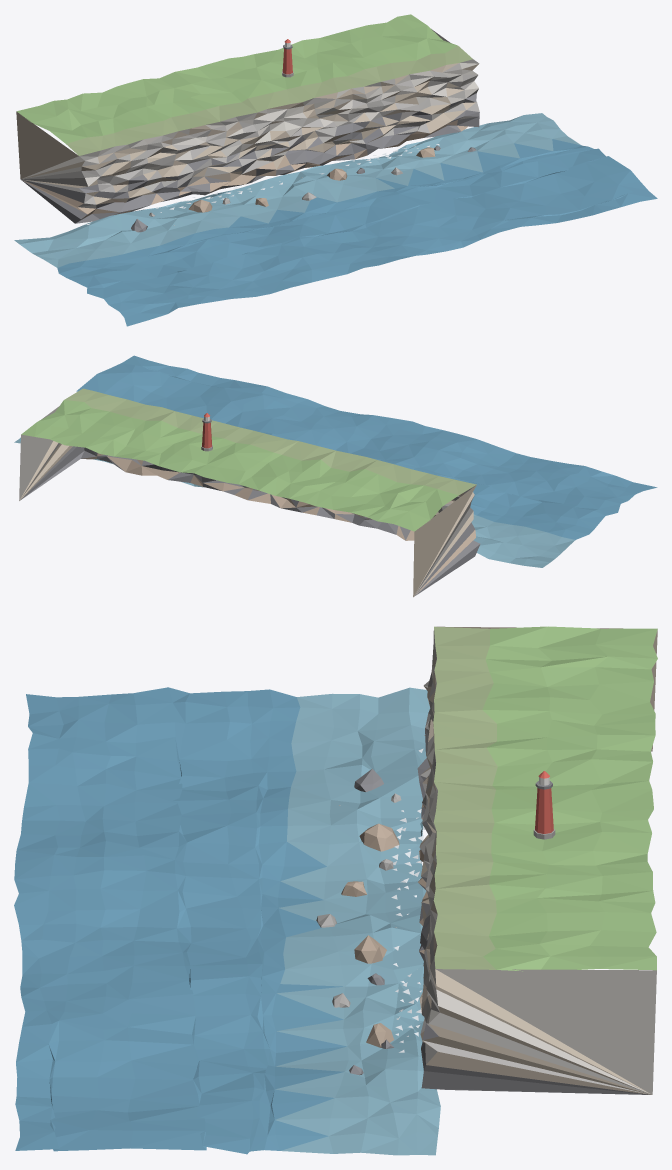
The model's file is Falaise_Bretonne_Complete.glb.
3 renders of one model, top to bottom at view 1: azimuth 30°, elevation 25°; view 2: azimuth 150°, elevation 25°; view 3: azimuth 270°, elevation 25°, orthographic. The views are drawn at different scales.
Parts seen in each view (by area): view 1: Ocean, Cliff; view 2: Cliff, Ocean; view 3: Ocean, Cliff, Foam, Rock_3, Lighthouse_Tower.
Boxes of the visible parts, x1,y1,x2,y2 form: Ocean: [14, 113, 657, 326]; Cliff: [16, 14, 479, 223]; Cliff: [19, 388, 480, 597]; Ocean: [14, 355, 657, 567]; Ocean: [14, 687, 440, 1155]; Cliff: [417, 626, 657, 1094]; Foam: [391, 748, 425, 1052]; Rock_3: [359, 823, 399, 851]; Lighthouse_Tower: [535, 788, 553, 833].
Size of the model in its own units: 406 by 79.07 by 238.
